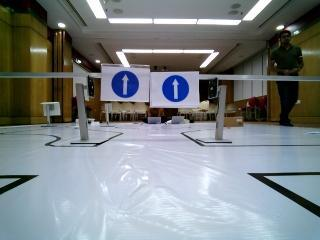straight: (101, 62, 152, 101), (153, 72, 198, 105)
